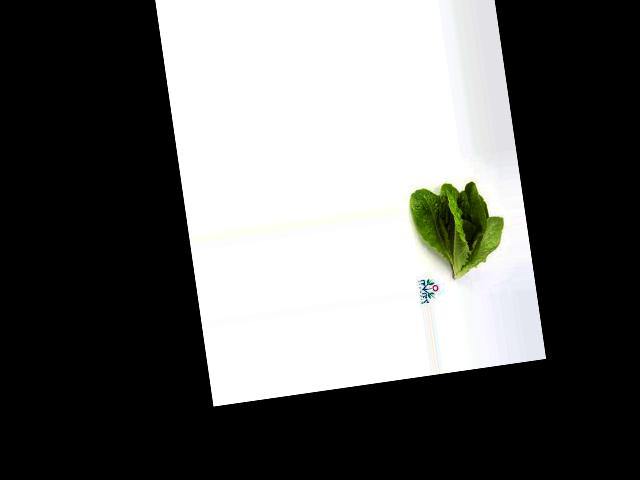lettuce: (369, 195, 506, 303)
